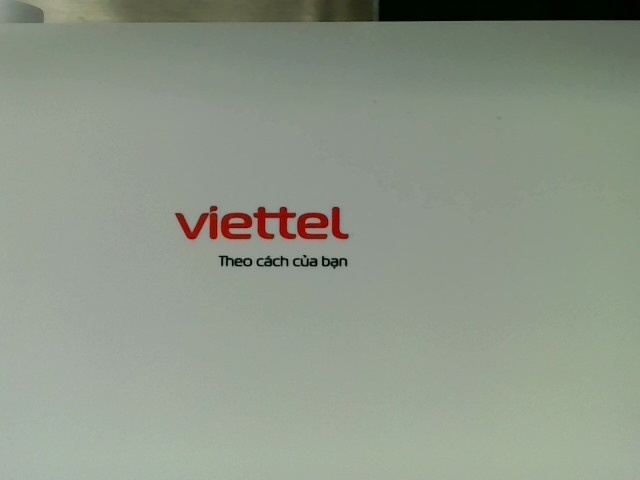AY_Viettel: (170, 202, 354, 274)
